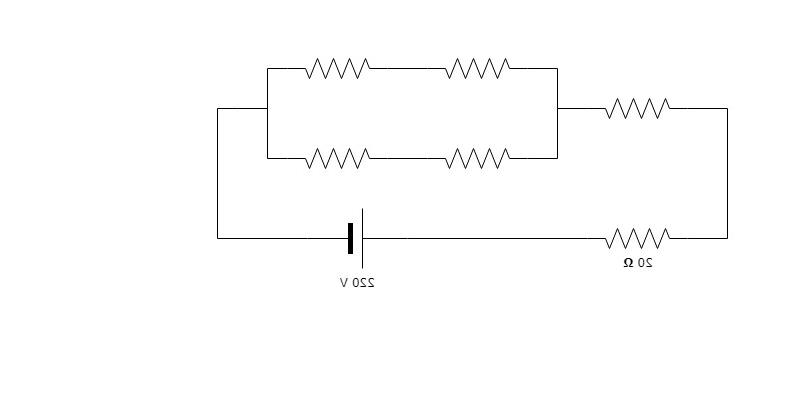resistor: (584, 73, 690, 136), (289, 32, 388, 99), (425, 35, 527, 88)
